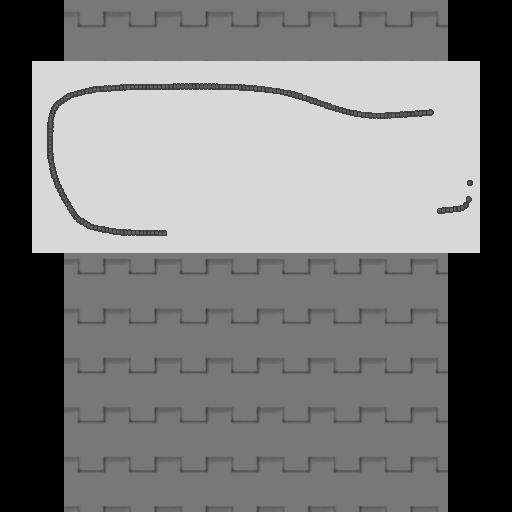Defect: (166, 204, 437, 238)
